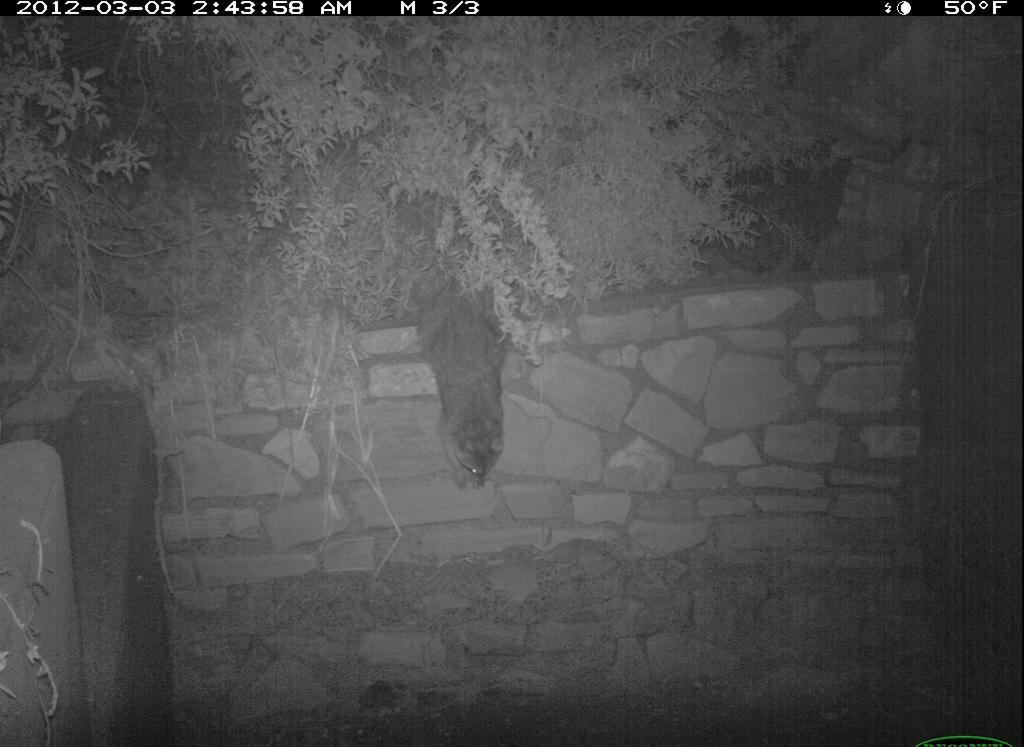raccoon: (382, 245, 553, 506)
